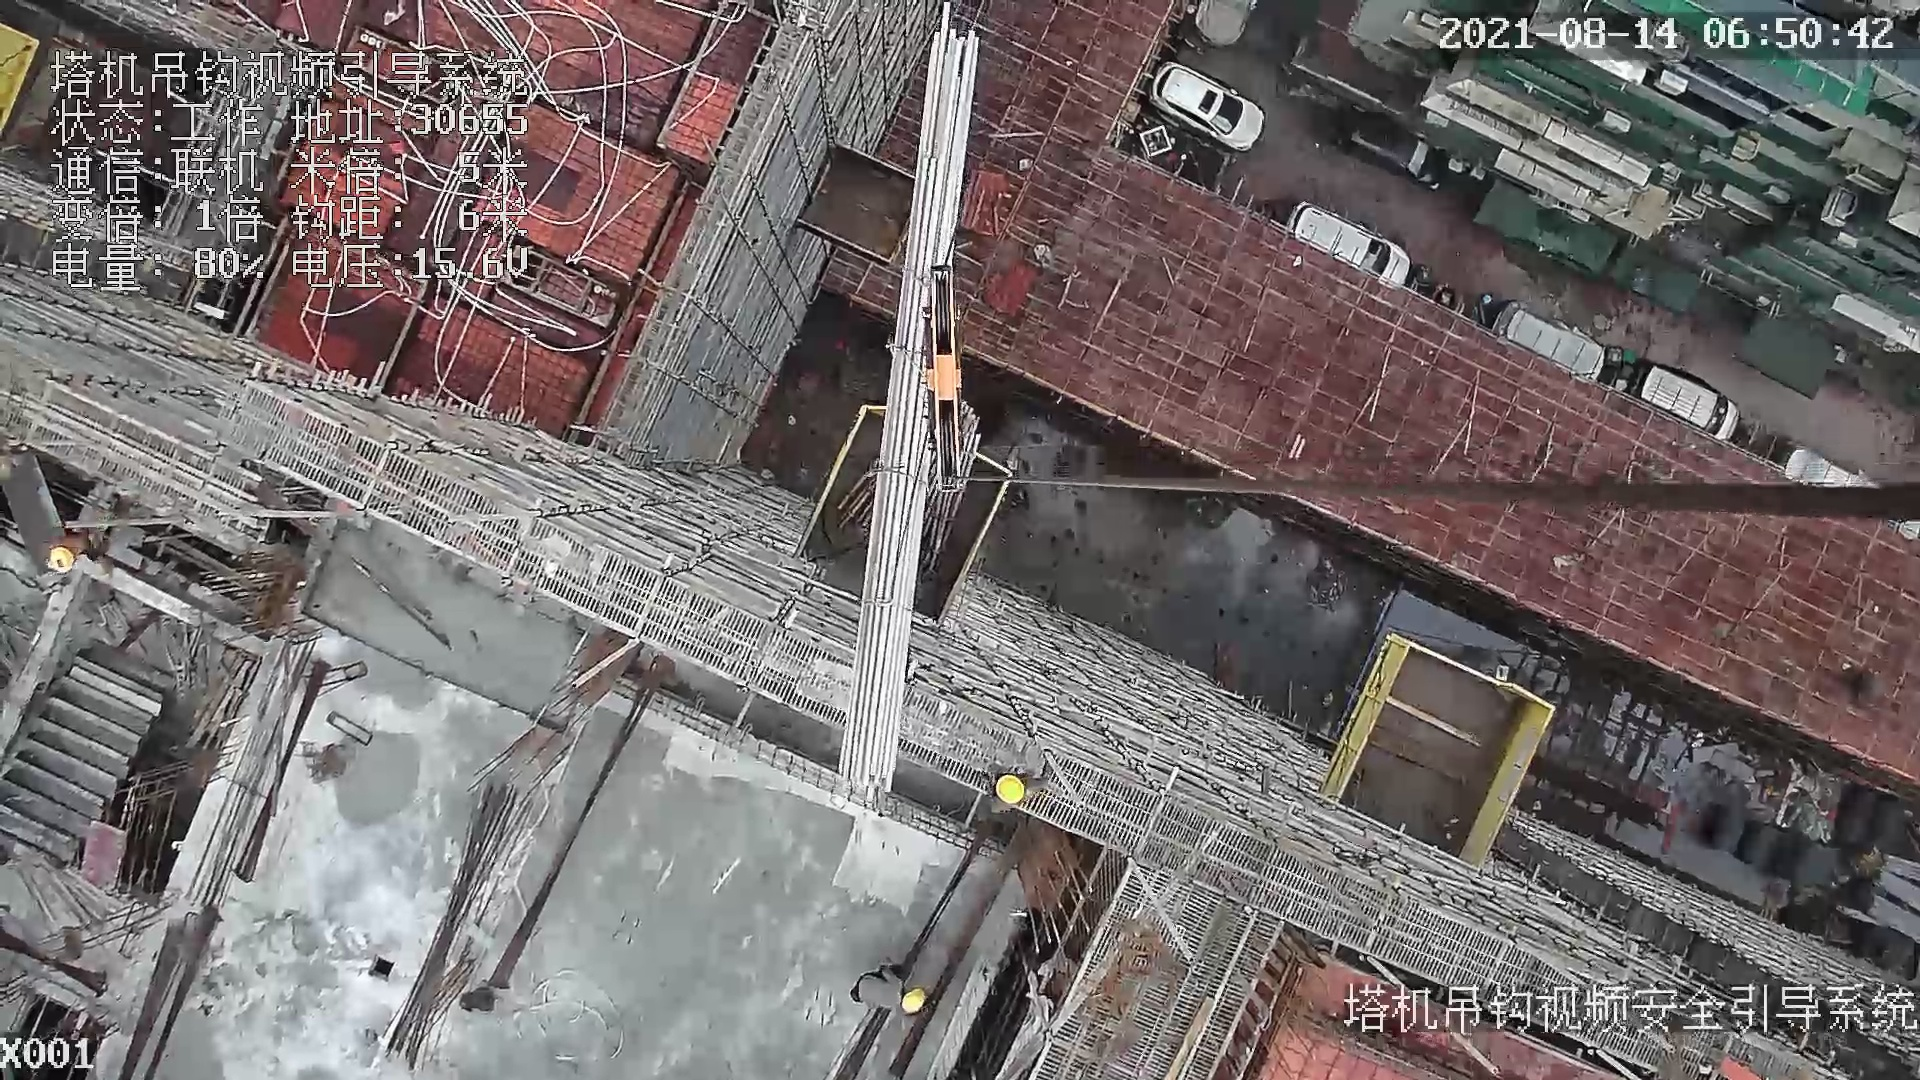helmet: (994, 773, 1029, 807), (902, 985, 932, 1019)
hook: (906, 263, 976, 499)
person: (982, 753, 1051, 821), (858, 954, 924, 1015), (44, 524, 97, 576)
